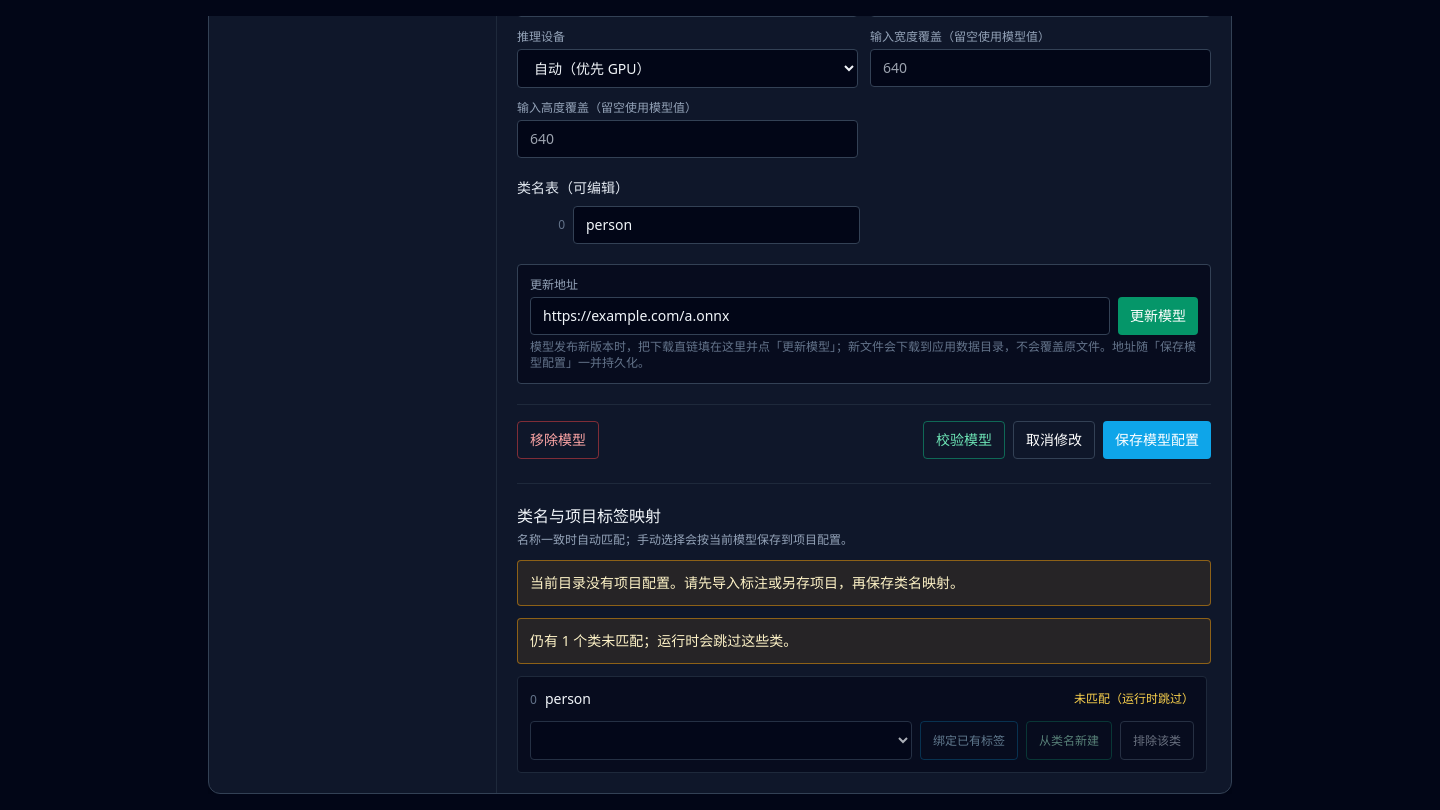
Scenario: does not reserve download resources or block graph inspection during a local save
(page scrolled)
Click the button "保存模型配置" at (1157, 440), box left=1103, top=421, right=1211, bottom=459
(page scrolled)
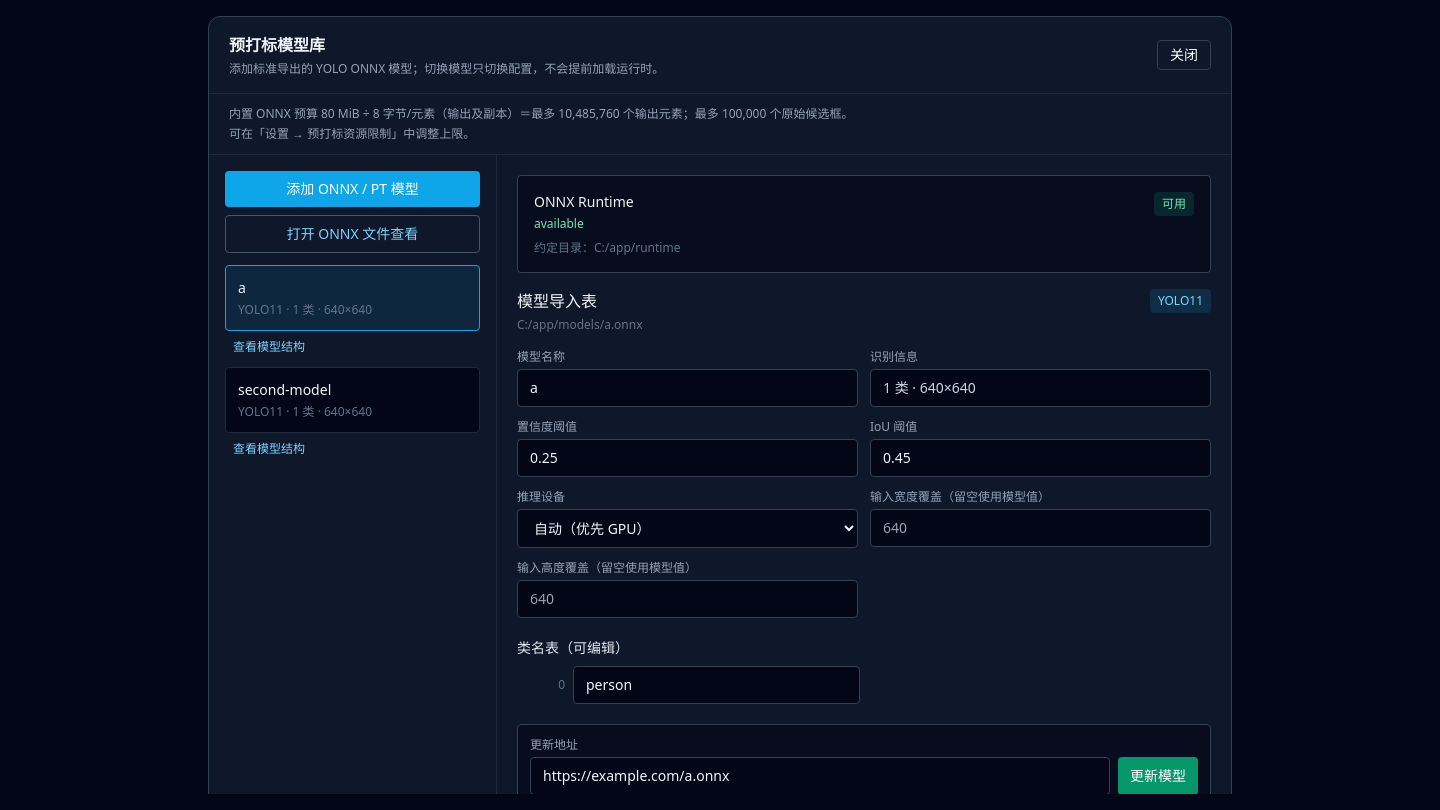
Now the 1st button "查看模型结构" is enabled, box left=225, top=335, right=313, bottom=359
